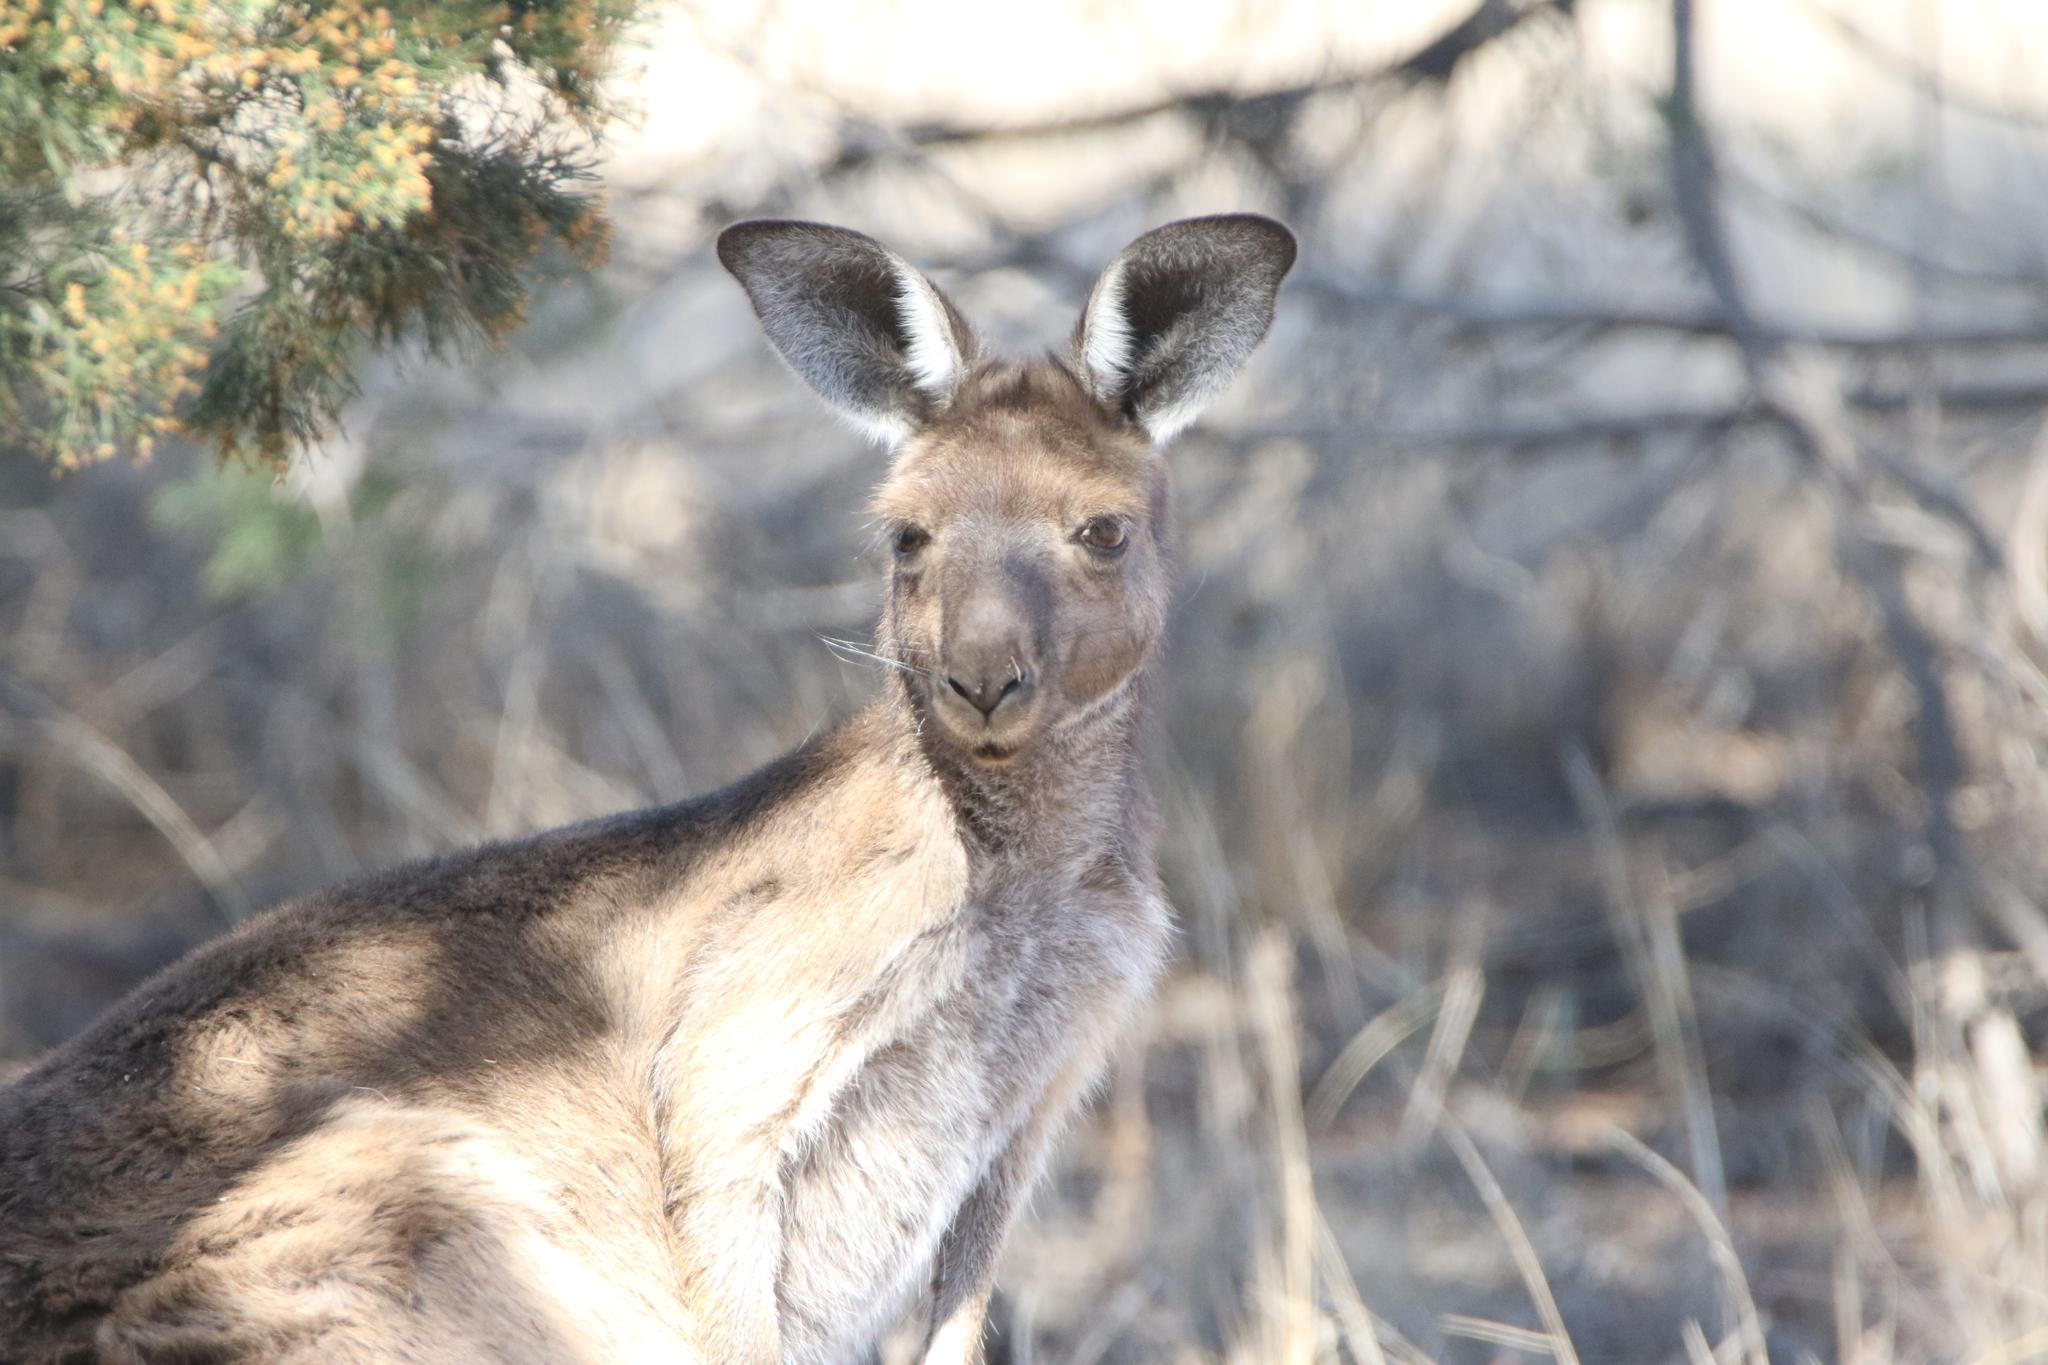Western grey kangaroo: (0, 206, 1310, 1365)
